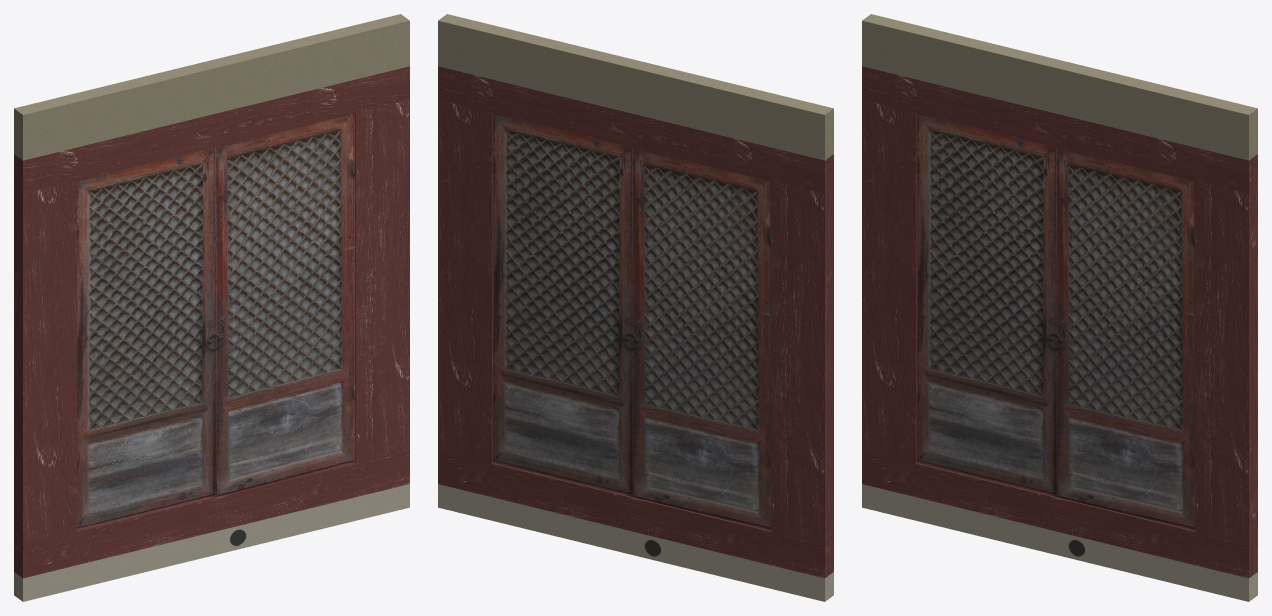
File: SM_Sun_Pal_Wall_E.fbx
3 renders of one model, left to right at view 1: azimuth 30°, elevation 25°; view 2: azimuth 150°, elevation 25°; view 3: azimuth 330°, elevation 25°, orthographic.
Parts seen in each view (by area): view 1: SM_Sun_Pal_Wall_E; view 2: SM_Sun_Pal_Wall_E; view 3: SM_Sun_Pal_Wall_E.
Part boxes in pixels (x1=…): SM_Sun_Pal_Wall_E: x1=14, y1=14, x2=409, y2=601; SM_Sun_Pal_Wall_E: x1=438, y1=14, x2=833, y2=601; SM_Sun_Pal_Wall_E: x1=862, y1=14, x2=1257, y2=601.
Size of the model in its own units: 245 by 295 by 10.
